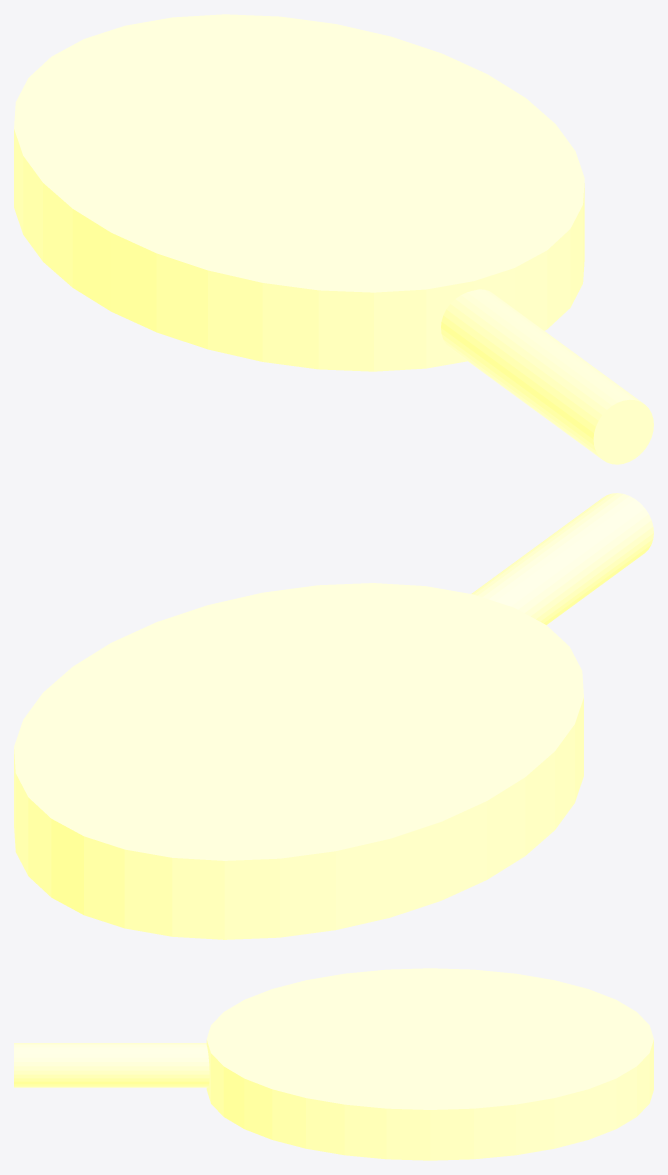
File: one.fbx
The picture shows the model from 3 angles, top to bottom: view 1: azimuth 30°, elevation 25°; view 2: azimuth 150°, elevation 25°; view 3: azimuth 270°, elevation 25°; orthographic projection. The views are drawn at different scales.
Visible parts, largest first — view 1: Cylinder.001; view 2: Cylinder.001; view 3: Cylinder.001.
Part boxes in pixels (x1,y1,x2,y2): Cylinder.001: [14, 14, 653, 464]; Cylinder.001: [14, 493, 653, 939]; Cylinder.001: [14, 968, 653, 1160].
Bounding box in the file's own units: 600 × 100 × 1145.
